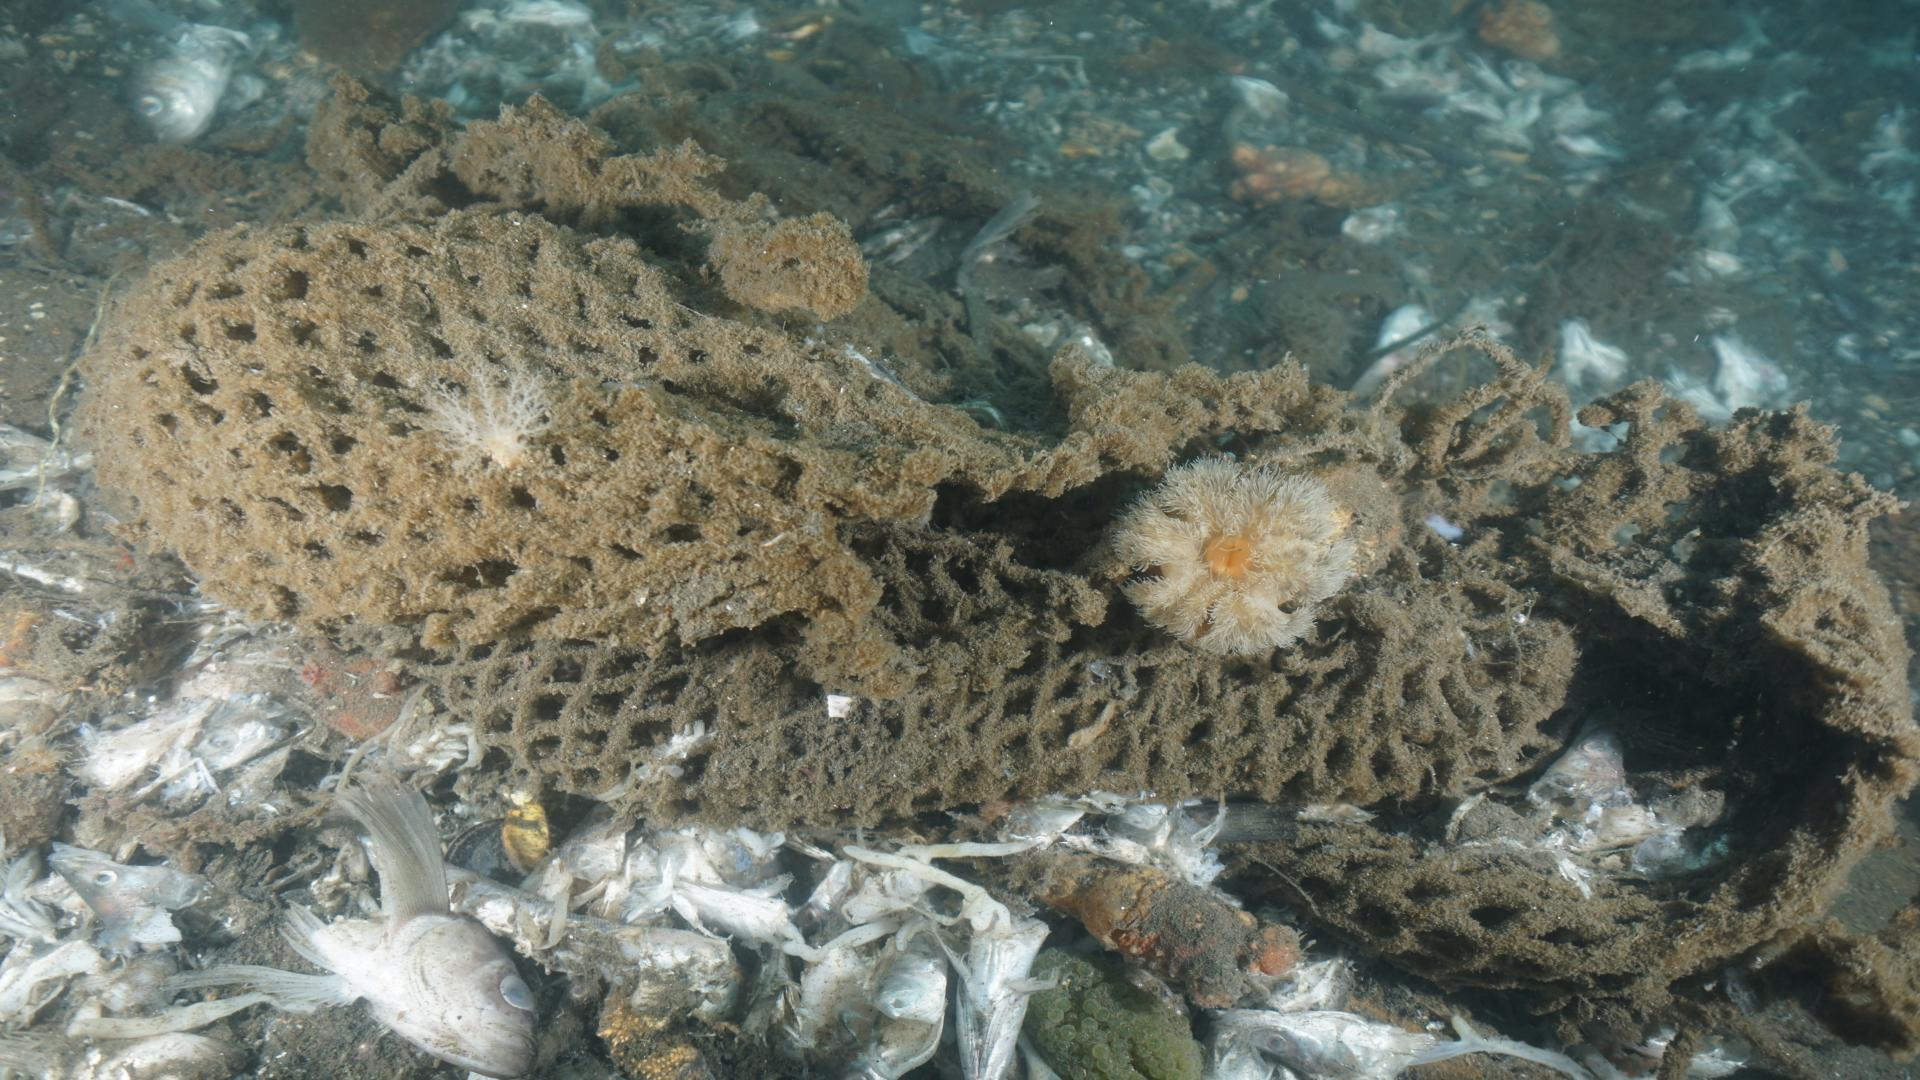fish net: (76, 119, 1630, 1030)
